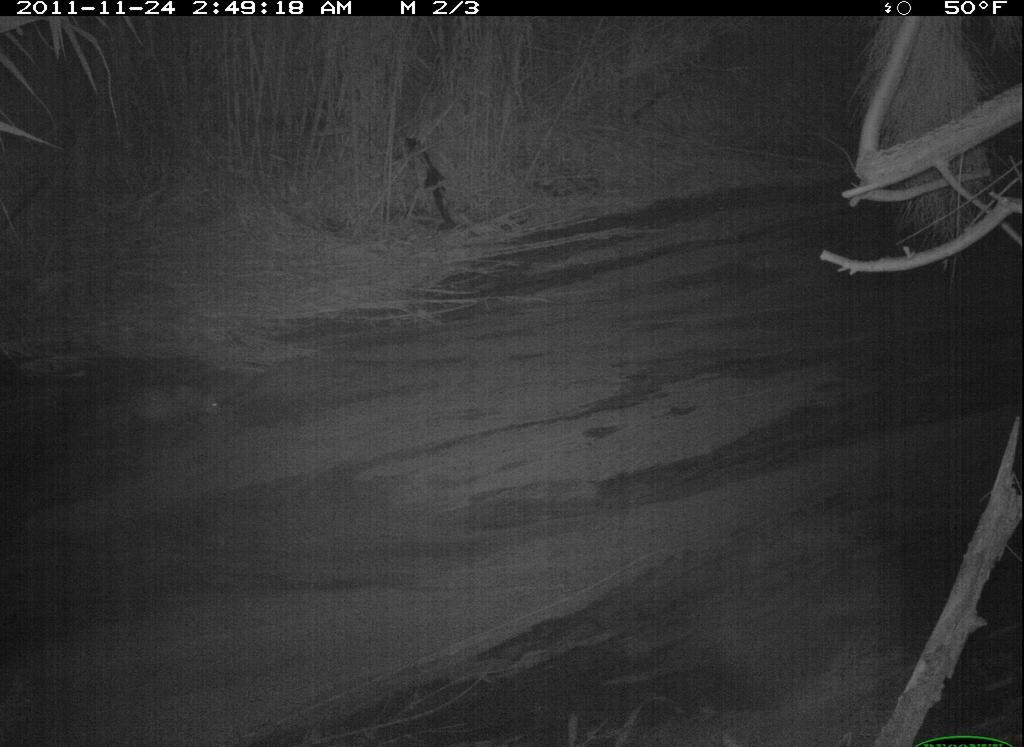opossum: (79, 370, 235, 449)
